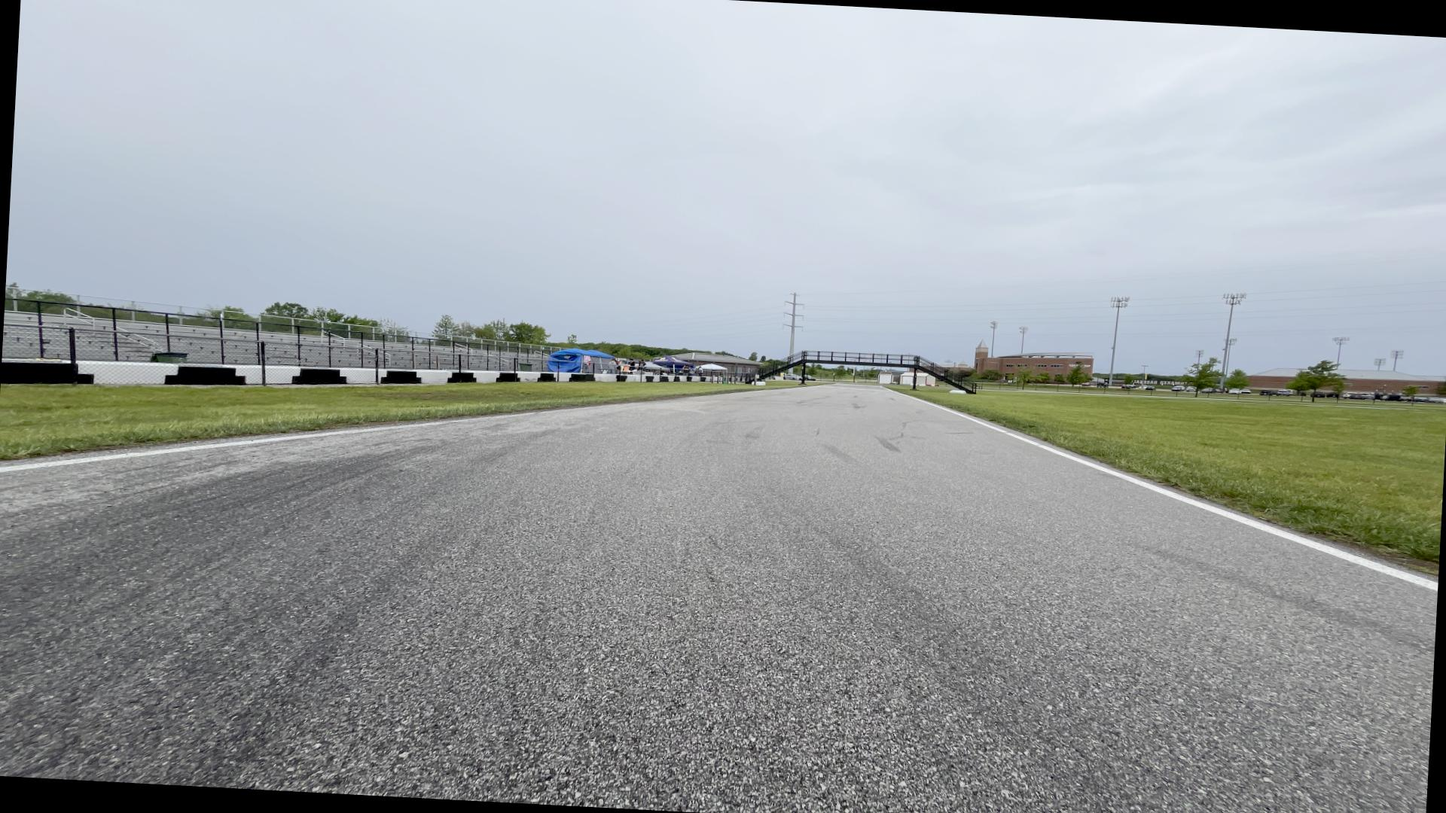white-line: (879, 386, 1437, 591), (0, 404, 618, 472), (727, 384, 834, 394)
